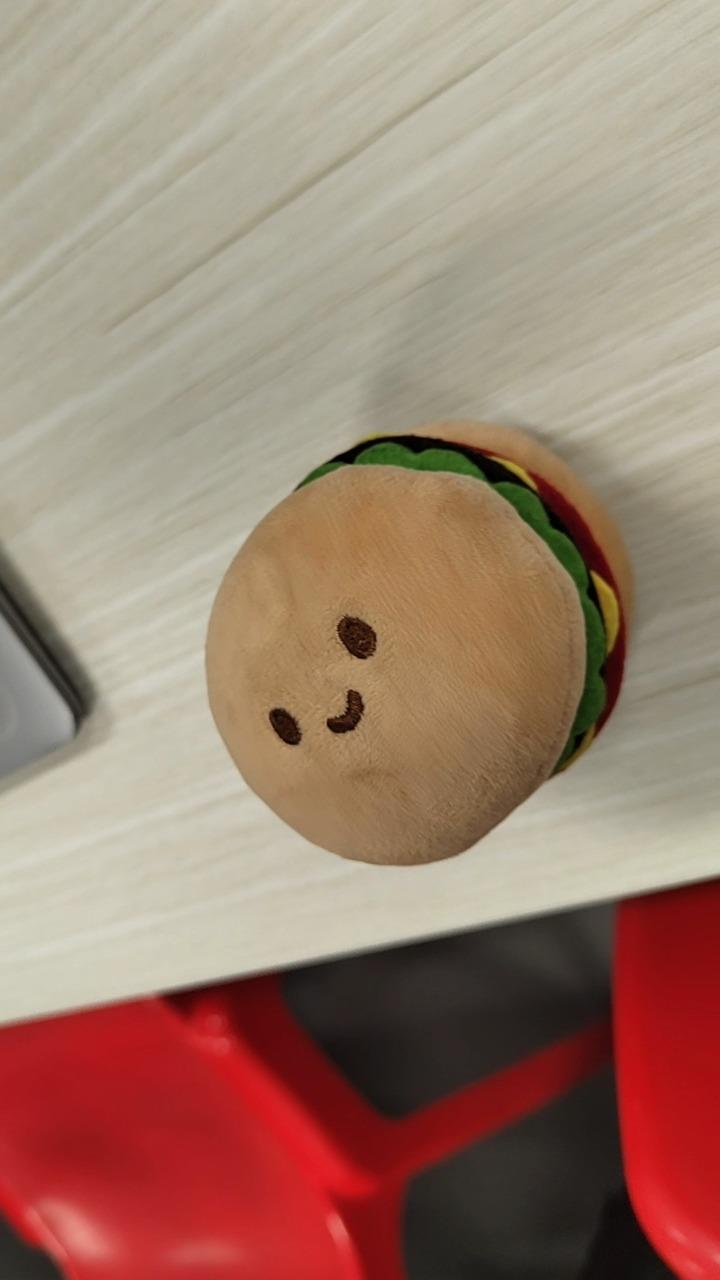hamburger: (203, 416, 634, 867)
